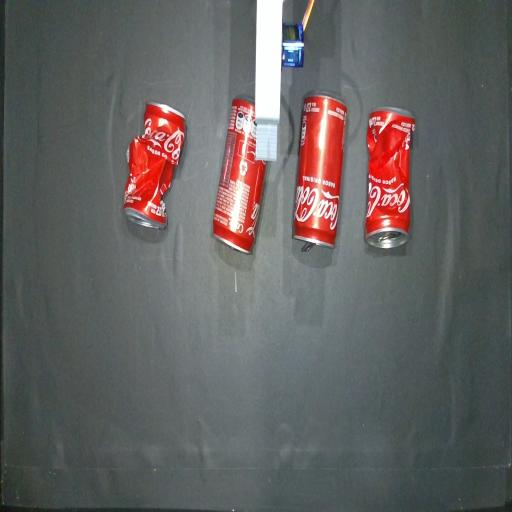lata: (293, 91, 347, 247), (213, 97, 266, 253)
lata_defectuoso: (125, 104, 185, 227), (365, 108, 415, 247)
